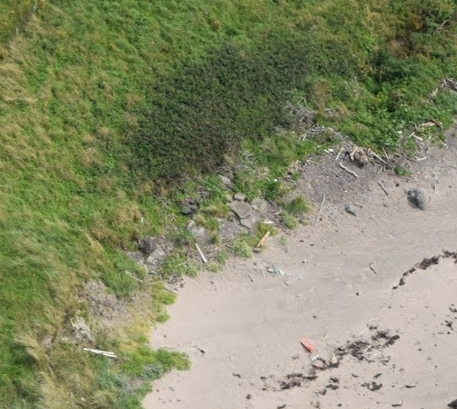straight_bar: (79, 339, 124, 363), (188, 237, 215, 269), (251, 225, 278, 257)
white_in_green: (283, 322, 335, 371)
